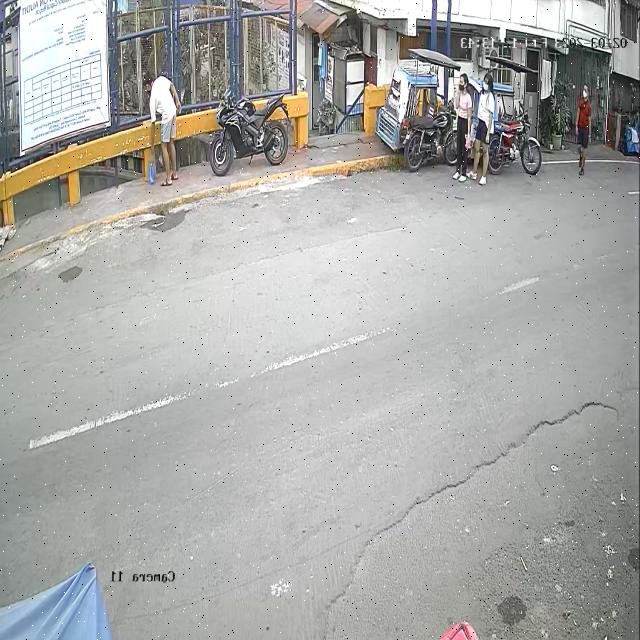garbage_dumping: (145, 157, 158, 186)
